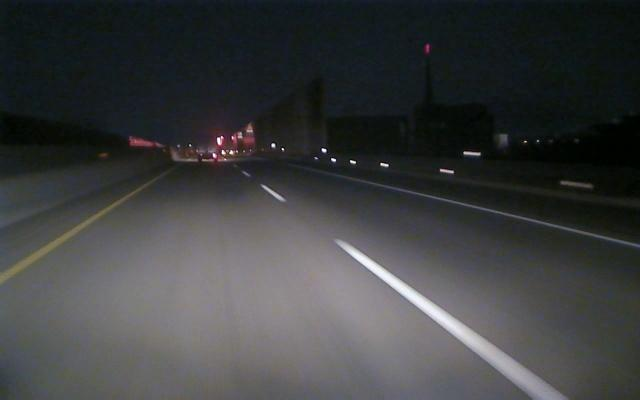lane: (261, 186, 570, 399), (332, 172, 640, 250), (1, 182, 152, 282)
